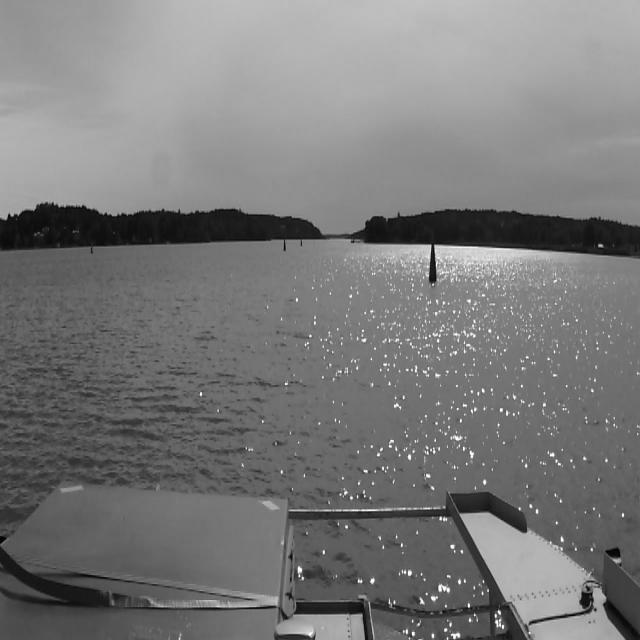buoy: (283, 235, 287, 252), (90, 238, 93, 255), (300, 238, 302, 248)
ship: (429, 247, 437, 284)
